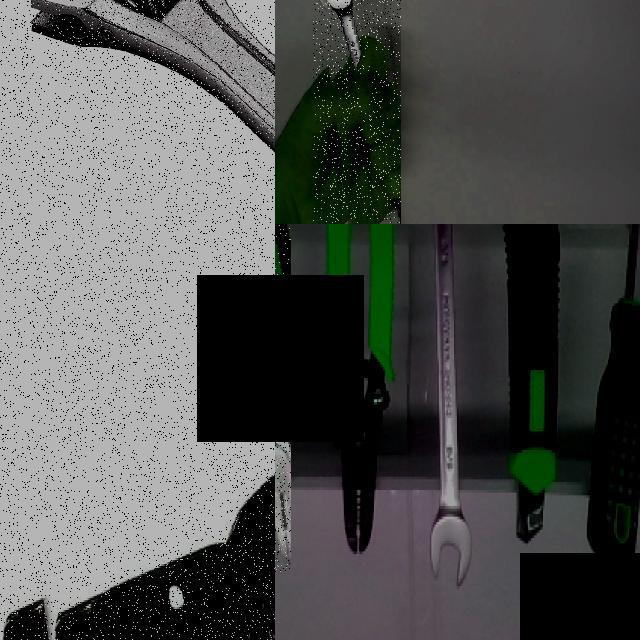estilete: (505, 225, 559, 542)
